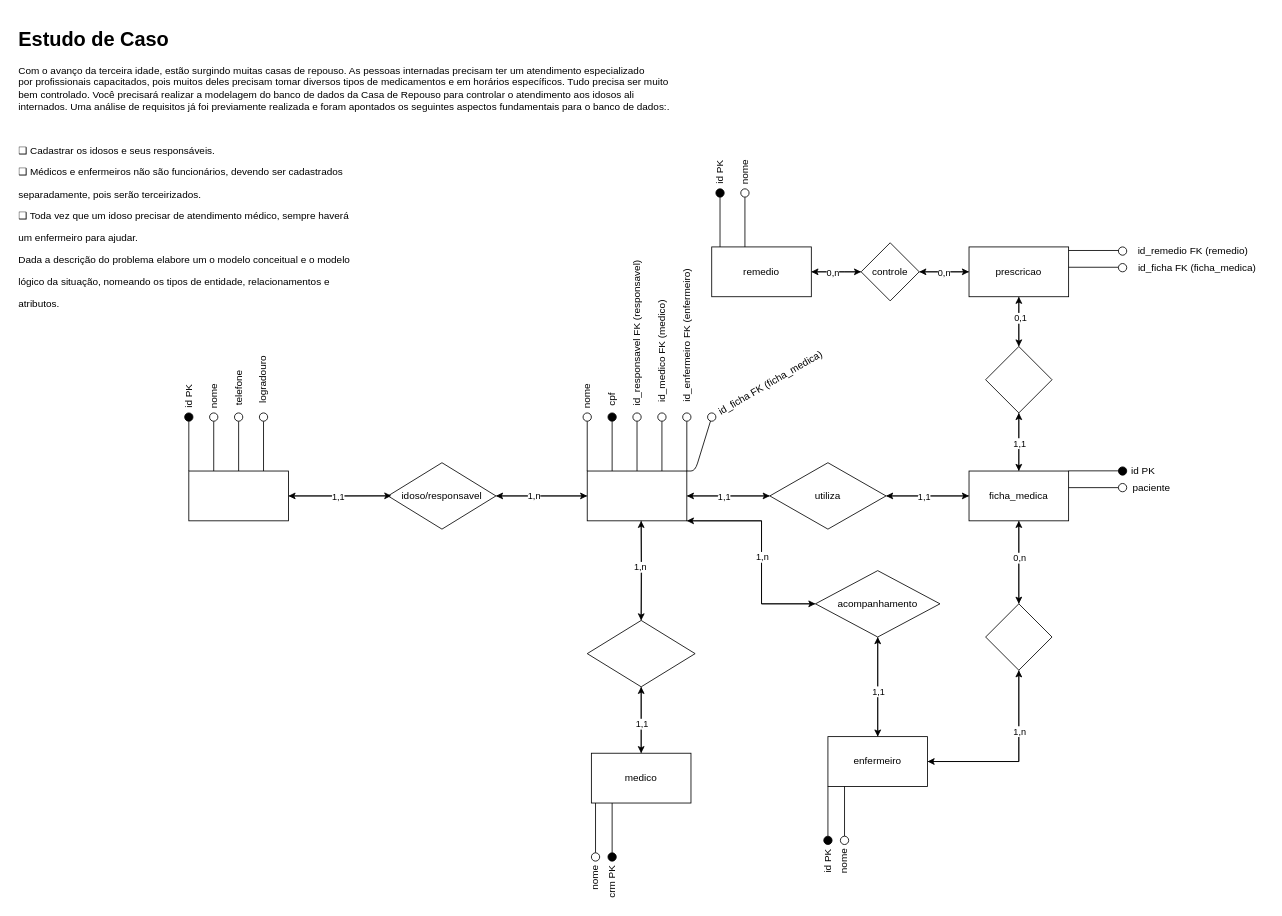
This 1282x916 diagram has some shape labels left out. Here are the shapes that lost their labels. From the top down, the centre of each, then its label:
the point at 1018,379: receita
the point at 238,495: responsavel
the point at 636,495: idoso
the point at 640,653: atendimento
the point at 1018,636: controla
